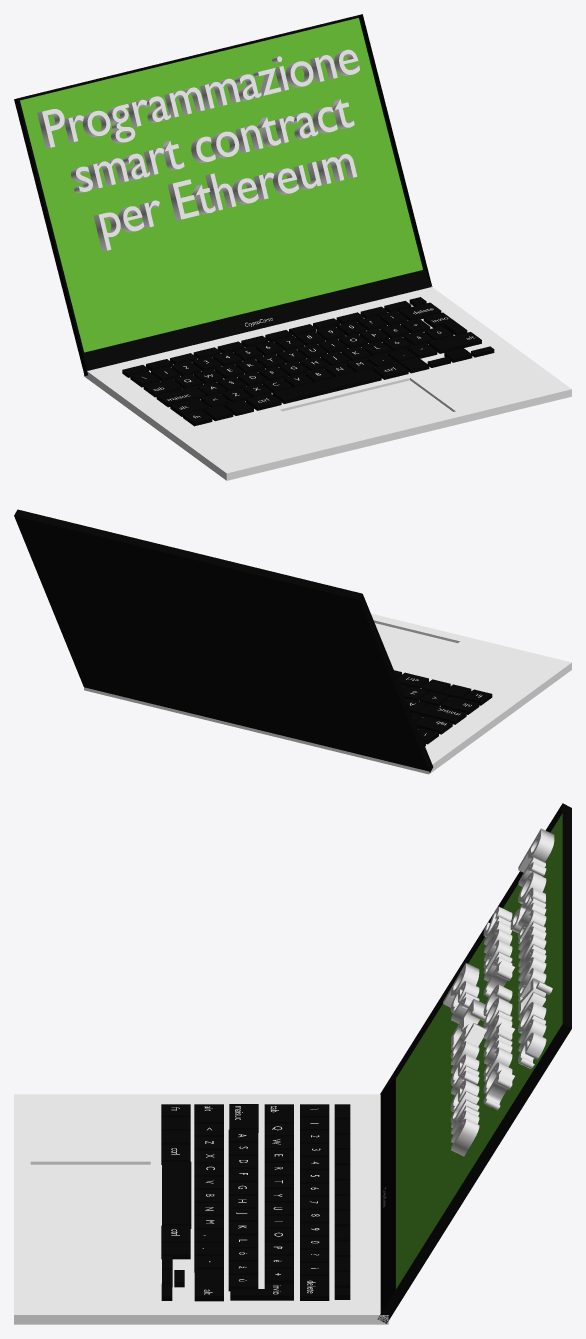
File: smartContract.glb
3 renders of one model, top to bottom at view 1: azimuth 30°, elevation 25°; view 2: azimuth 150°, elevation 25°; view 3: azimuth 270°, elevation 25°, orthographic. The views are drawn at different scales.
Visible parts, largest first — view 1: Cube.073, Cube, Text, Cube.074, Text.001, Text.002, Cube.001, Cube.072, Cube.123; view 2: Cube.001, Cube, Cube.065, Cube.064, Cube.066, Cube.071; view 3: Cube, Cube.073, Cube.001, Text, Text.001, Text.002, Cube.074, Cube.072, Cube.123, Cube.065, Cube.027.
Boxes of the visible parts, x1,y1,x2,y2 form: Cube.073: (20, 18, 422, 352); Cube: (84, 286, 571, 480); Text: (37, 49, 359, 148); Cube.074: (82, 269, 431, 370); Text.001: (71, 99, 354, 192); Text.002: (93, 154, 357, 251); Cube.001: (14, 14, 432, 375); Cube.072: (272, 368, 381, 403); Cube.123: (428, 332, 481, 353); Cube.001: (14, 509, 433, 772); Cube: (84, 613, 571, 774); Cube.065: (417, 703, 466, 724); Cube.064: (440, 696, 479, 714); Cube.066: (415, 716, 452, 734); Cube.071: (397, 672, 428, 688); Cube: (14, 1094, 388, 1324); Cube.073: (396, 813, 562, 1288); Cube.001: (377, 803, 571, 1323); Text: (510, 828, 554, 1068); Text.001: (483, 906, 514, 1110); Text.002: (443, 963, 486, 1156); Cube.074: (380, 1077, 396, 1313); Cube.072: (162, 1161, 191, 1228); Cube.123: (194, 1269, 223, 1301); Cube.065: (229, 1104, 258, 1132); Cube.027: (300, 1276, 329, 1300).
Bounding box in the file's own units: 6.79 × 4.31 × 7.25.
